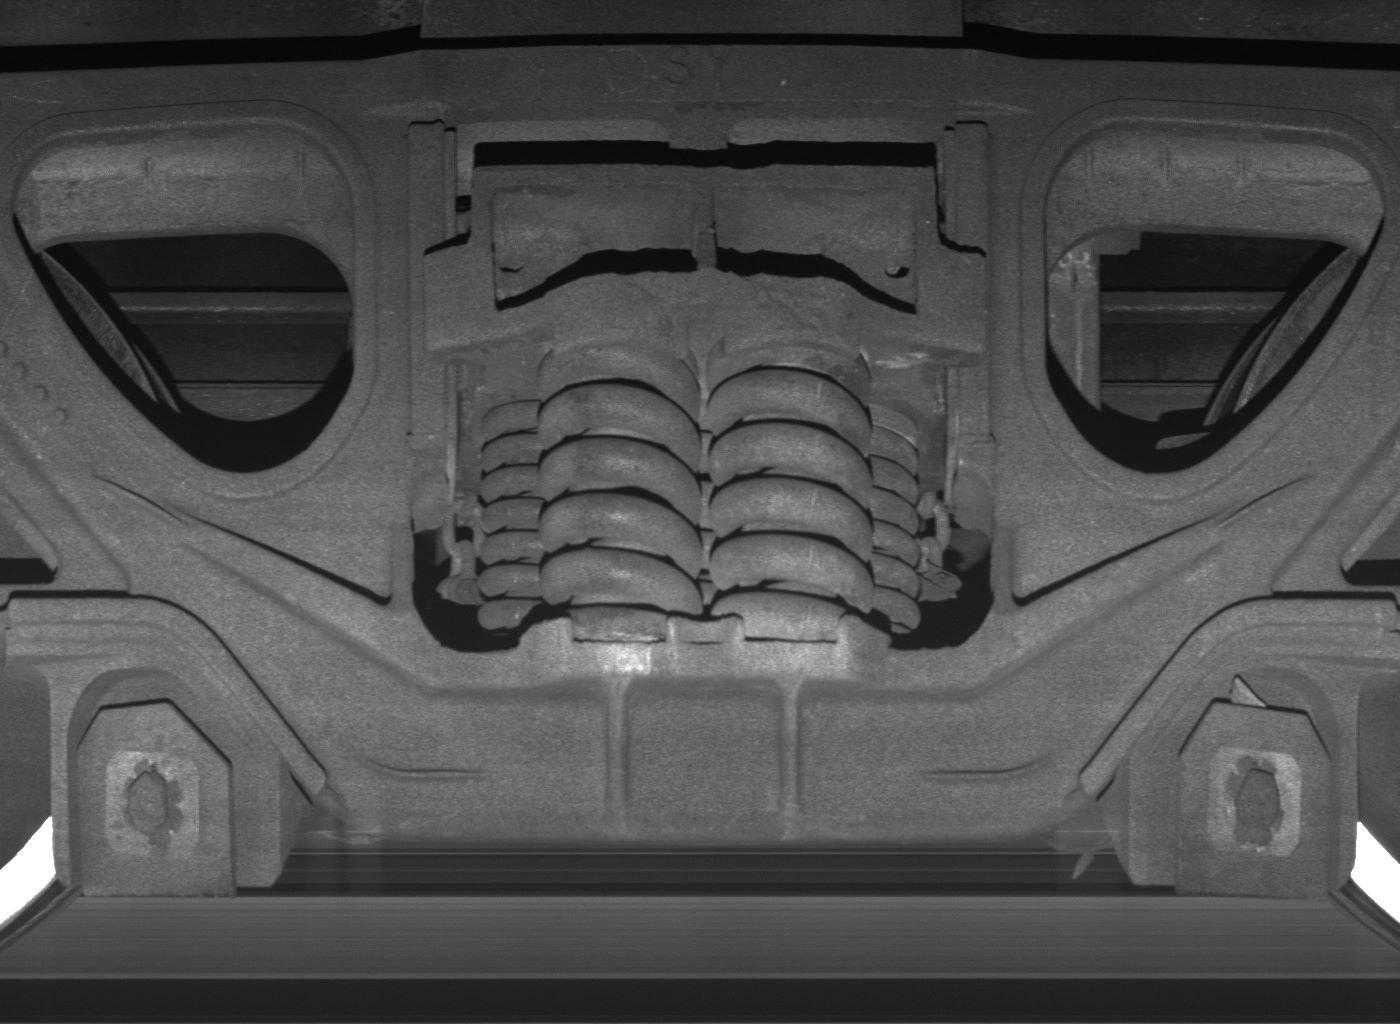locking plate: (1132, 667, 1358, 894)
normal: (51, 669, 279, 894)
